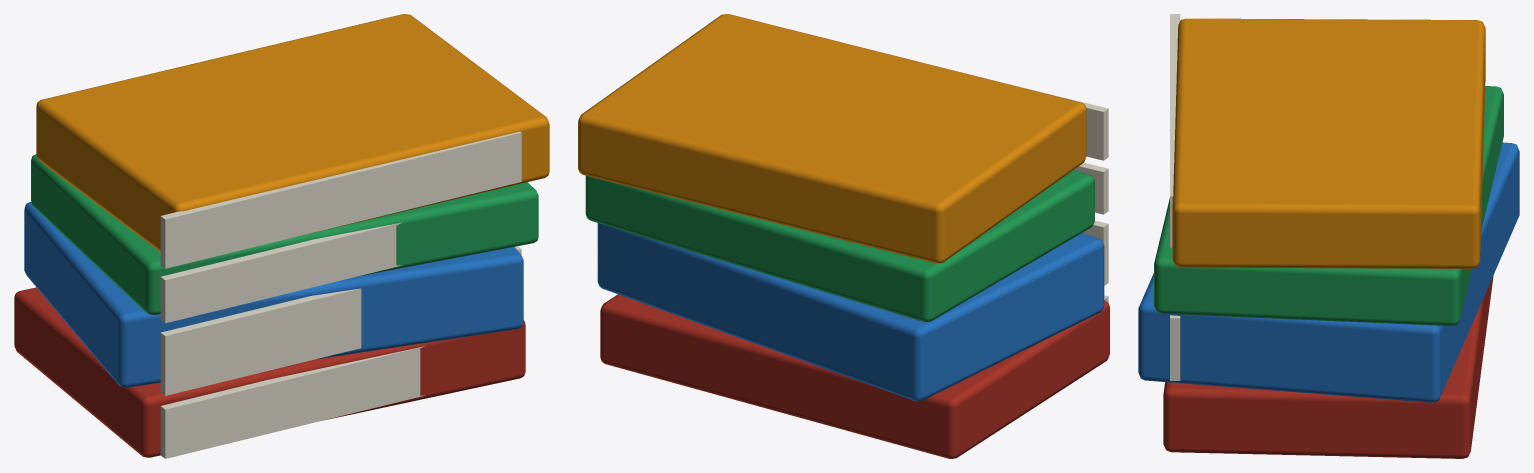
Rendered from book_stack.glb.
The picture shows the model from 3 angles, left to right: view 1: azimuth 30°, elevation 25°; view 2: azimuth 150°, elevation 25°; view 3: azimuth 270°, elevation 25°; orthographic projection. The views are drawn at different scales.
Parts seen in each view (by area): view 1: main; view 2: main; view 3: main.
Boxes of the visible parts, box(x1,y1,x2,y2) form: main: box(14, 14, 549, 458); main: box(578, 14, 1109, 458); main: box(1138, 14, 1519, 458).
Size of the model in its own units: 0.244 by 0.1418 by 0.1859.
